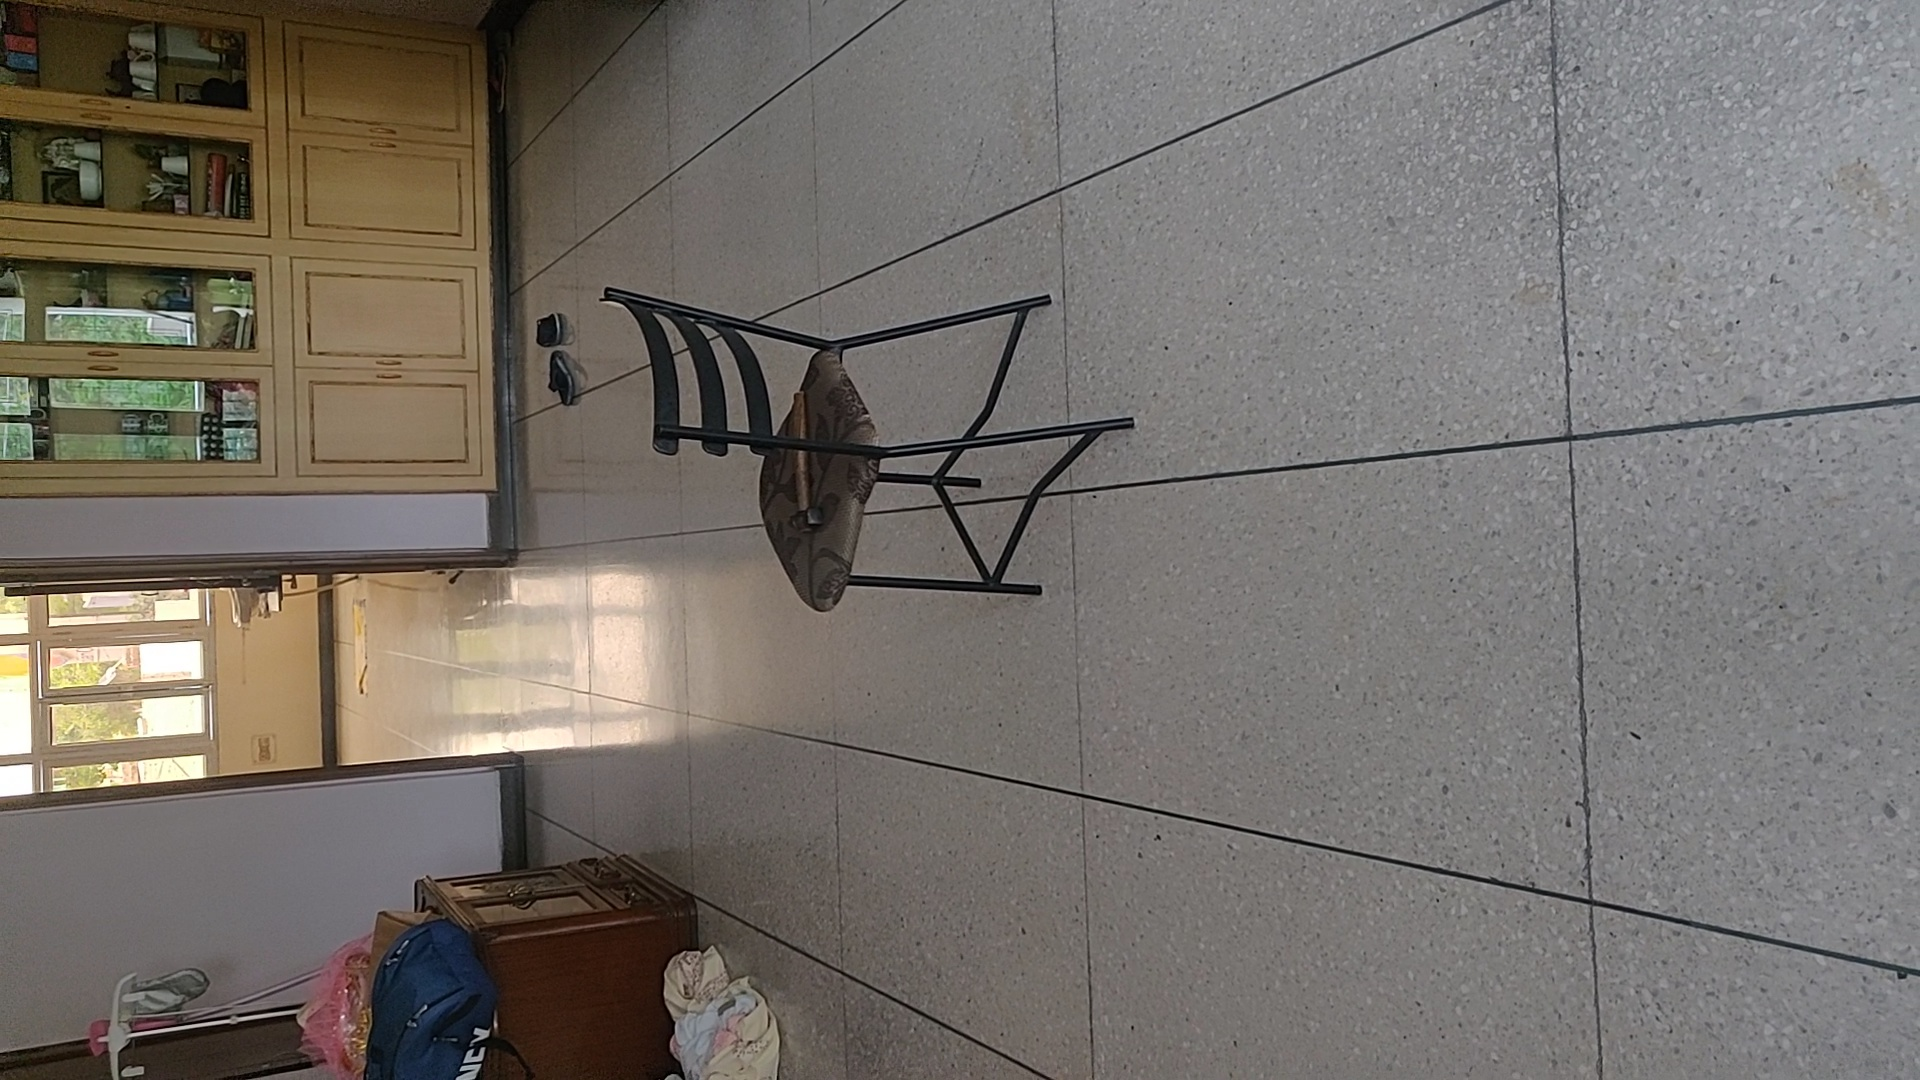hammer: (785, 389, 822, 533)
